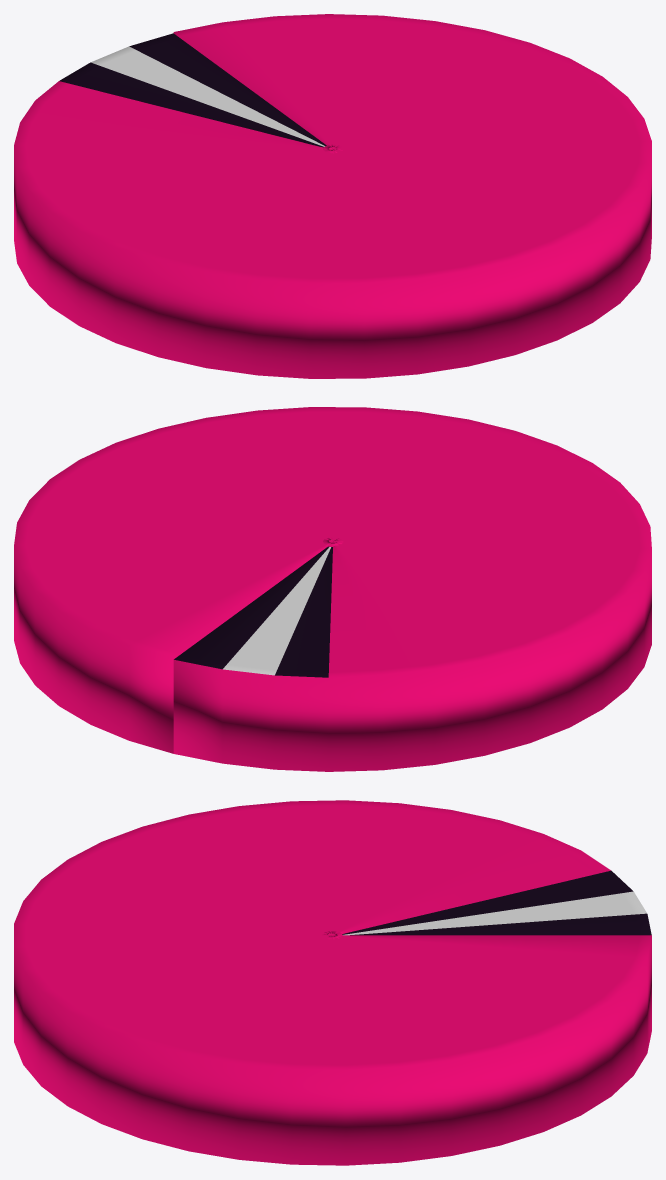
The model's file is secondPrototypePink.fbx.
3 views of the same model, one above another, from view 1: azimuth 30°, elevation 25°; view 2: azimuth 150°, elevation 25°; view 3: azimuth 270°, elevation 25° (orthographic).
Parts seen in each view (by area): view 1: Cube; view 2: Cube; view 3: Cube.
Boxes of the visible parts, x1,y1,x2,y2 form: Cube: (14,14,651,378); Cube: (14,407,651,771); Cube: (14,800,651,1165).
Size of the model in its own units: 6087 by 1004 by 6082.
